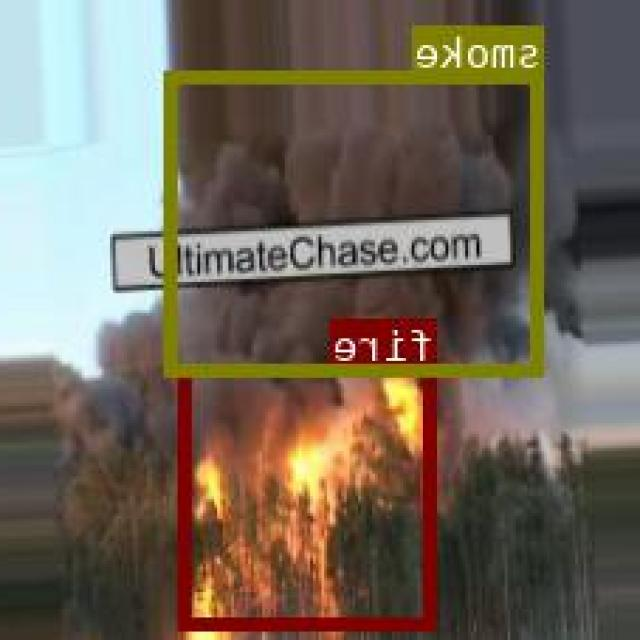fire: (181, 363, 438, 628)
smoke: (167, 71, 546, 372)
